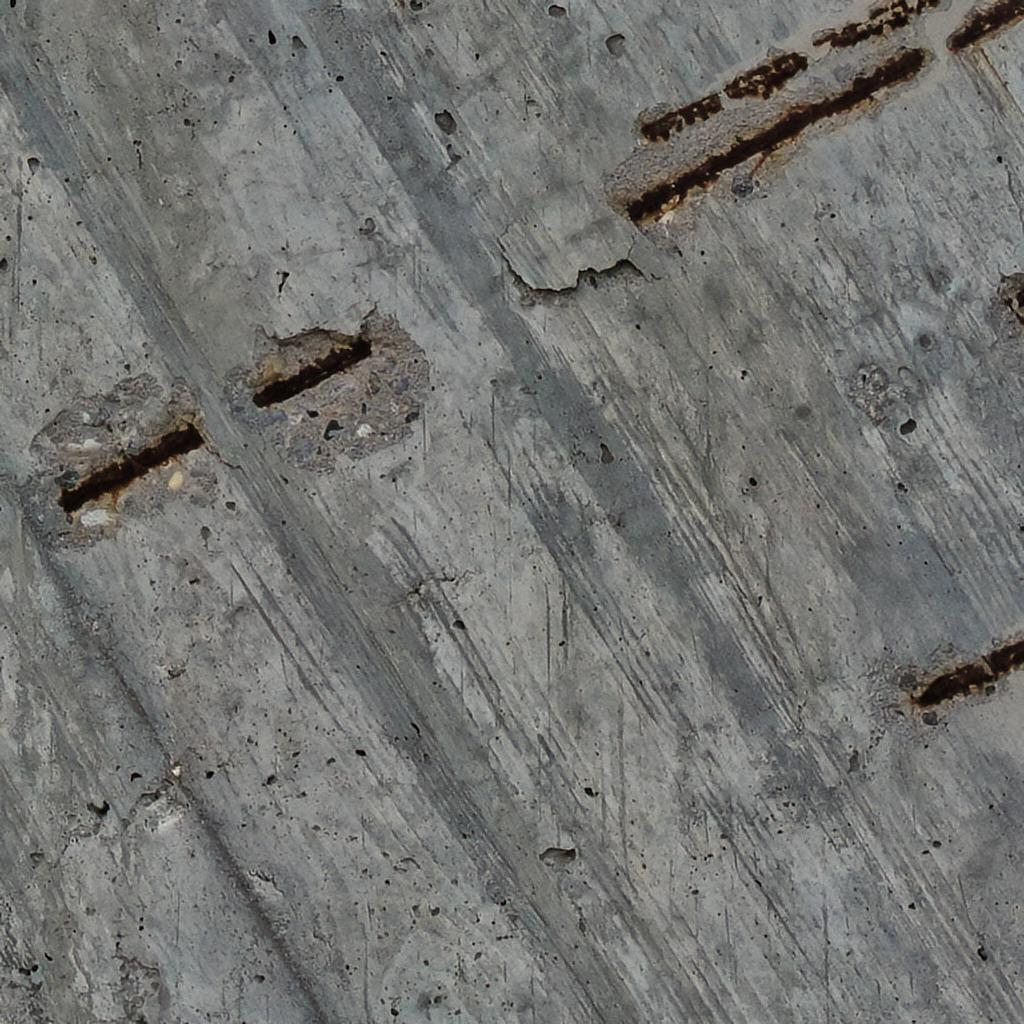exposed_rebar: (624, 48, 924, 222), (58, 424, 204, 513), (252, 336, 372, 407), (914, 641, 1024, 708), (814, 0, 940, 47), (636, 92, 722, 142), (948, 0, 1024, 51), (724, 52, 808, 98), (1000, 272, 1024, 323)
spalling: (606, 0, 1024, 239), (24, 374, 216, 546), (234, 314, 432, 469), (868, 626, 1024, 724), (848, 364, 920, 437), (992, 272, 1024, 336)
